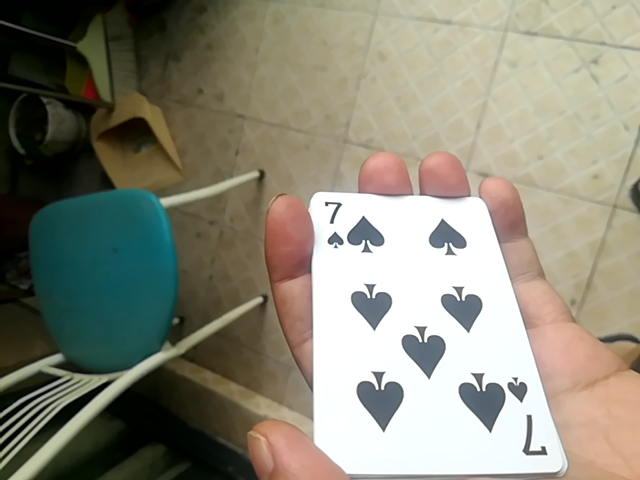ht 7: (311, 187, 551, 474)
